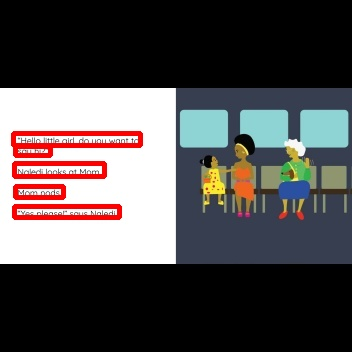latin: (13, 133, 140, 145), (14, 163, 104, 176), (14, 206, 119, 217), (15, 186, 63, 197), (15, 146, 50, 155)
